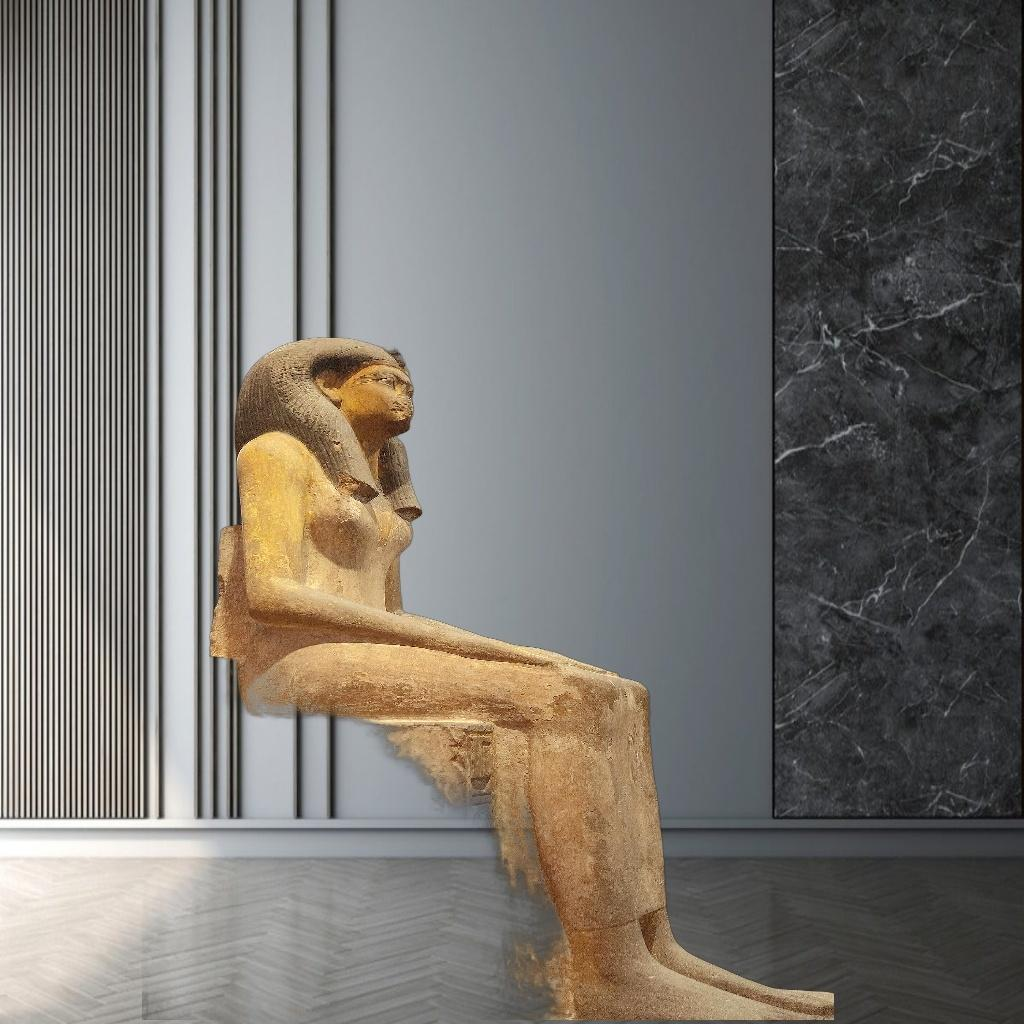Statue of Queen Metnoforet: (142, 332, 834, 1020)
